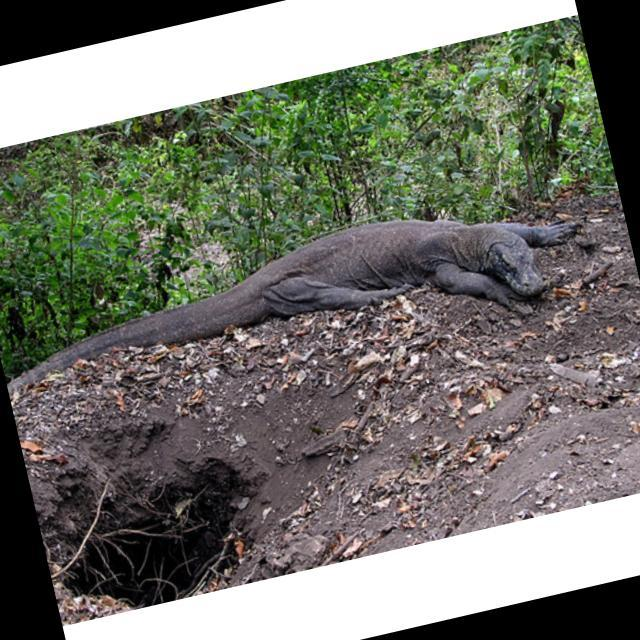KomodoDragon: (0, 175, 599, 434)
